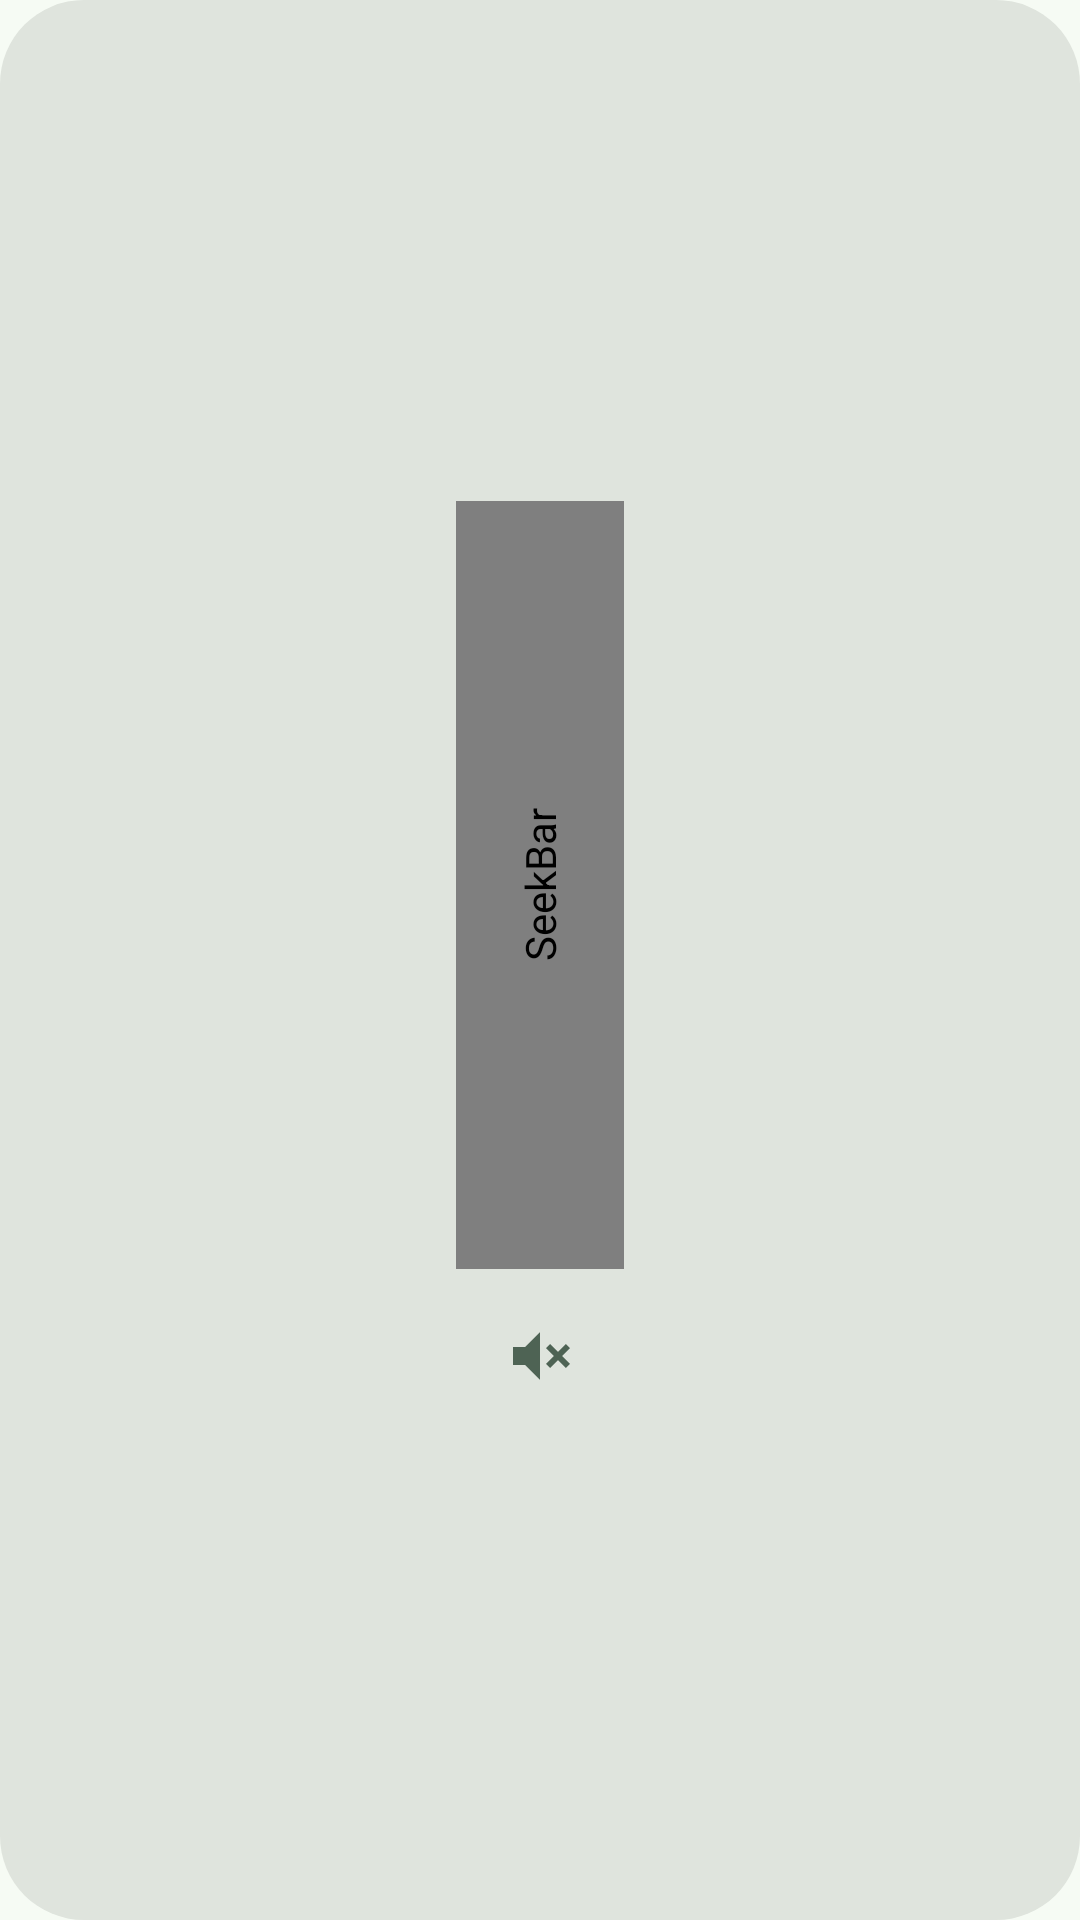

Named icons in this screenshot (1080x1920) and their centers, point (x, y):
volume muted: point (541, 1356)
